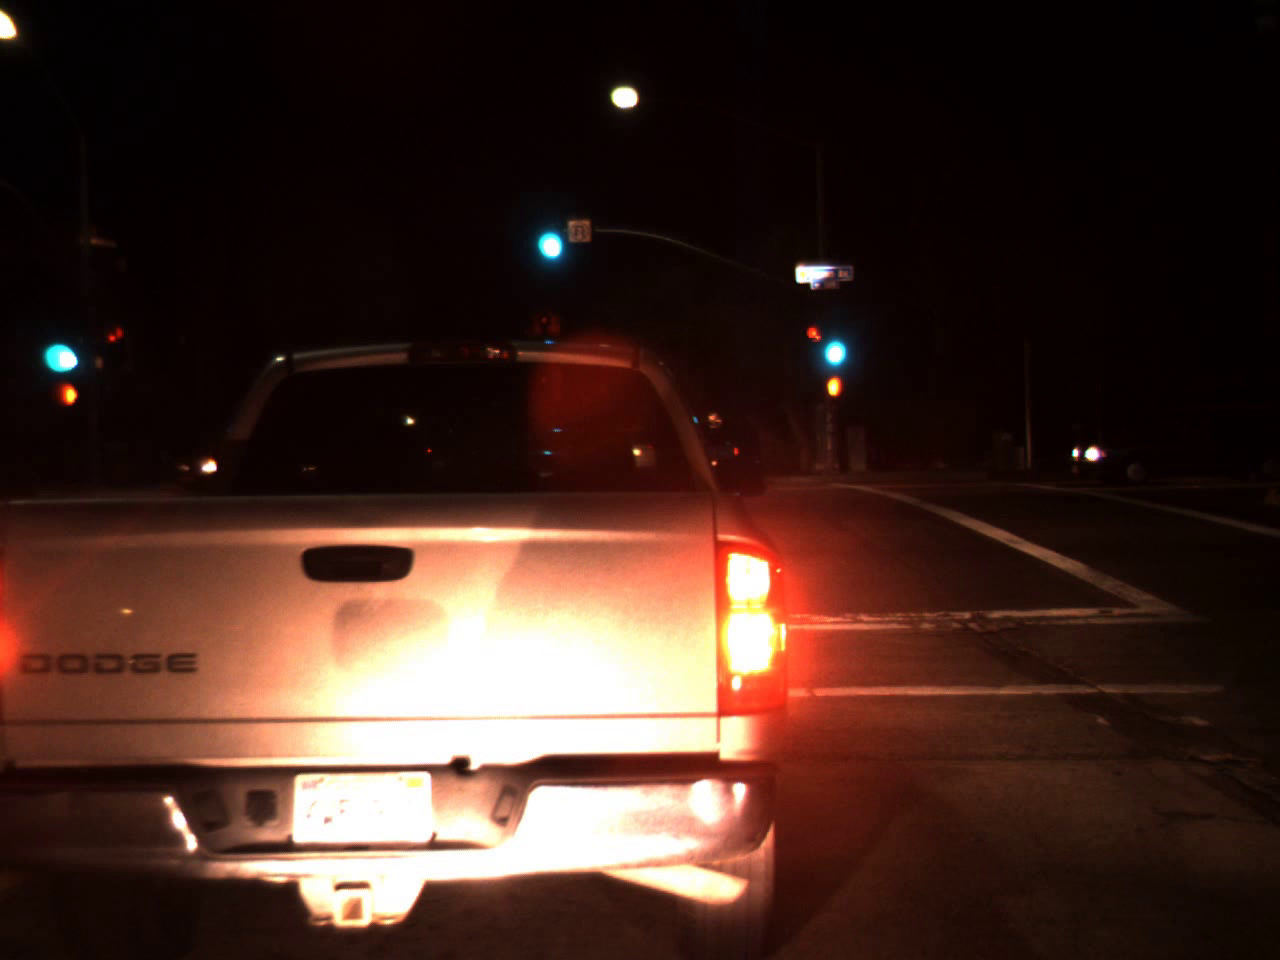go: (32, 306, 82, 384), (527, 198, 568, 270), (816, 307, 850, 376)
